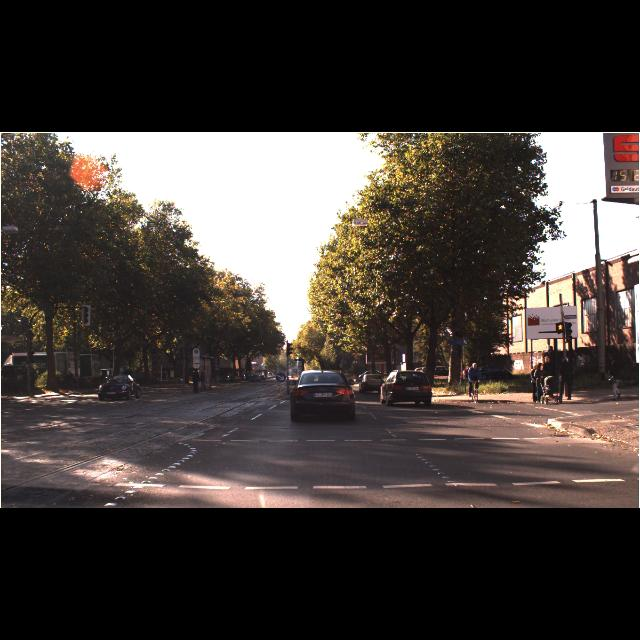mandatory: (274, 372, 286, 383)
